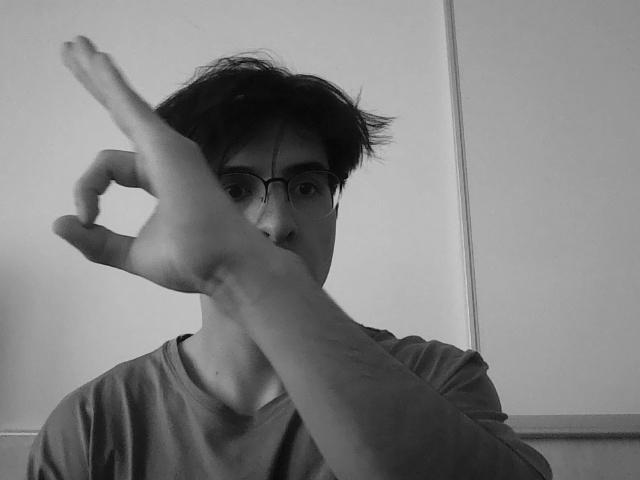OK: (50, 38, 256, 299)
